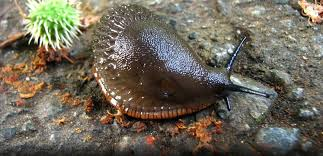slug: (92, 4, 259, 118)
